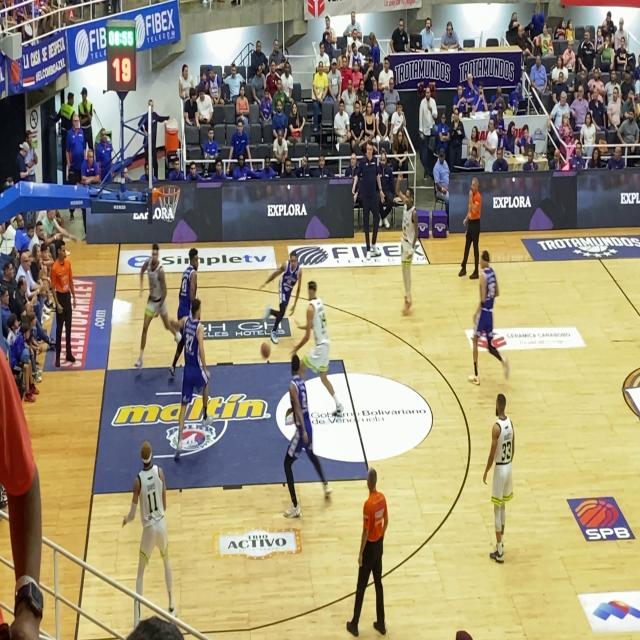Ball: (256, 332, 273, 366)
referee: (350, 462, 398, 640), (50, 234, 77, 378), (460, 170, 484, 286)
team1: (121, 437, 179, 636), (129, 233, 177, 384), (476, 388, 516, 566), (296, 280, 344, 422), (388, 172, 428, 323)
team2: (281, 356, 336, 532), (470, 242, 510, 401), (179, 294, 211, 460), (264, 237, 304, 350), (174, 240, 205, 304)
ubasket: (157, 177, 182, 230)
